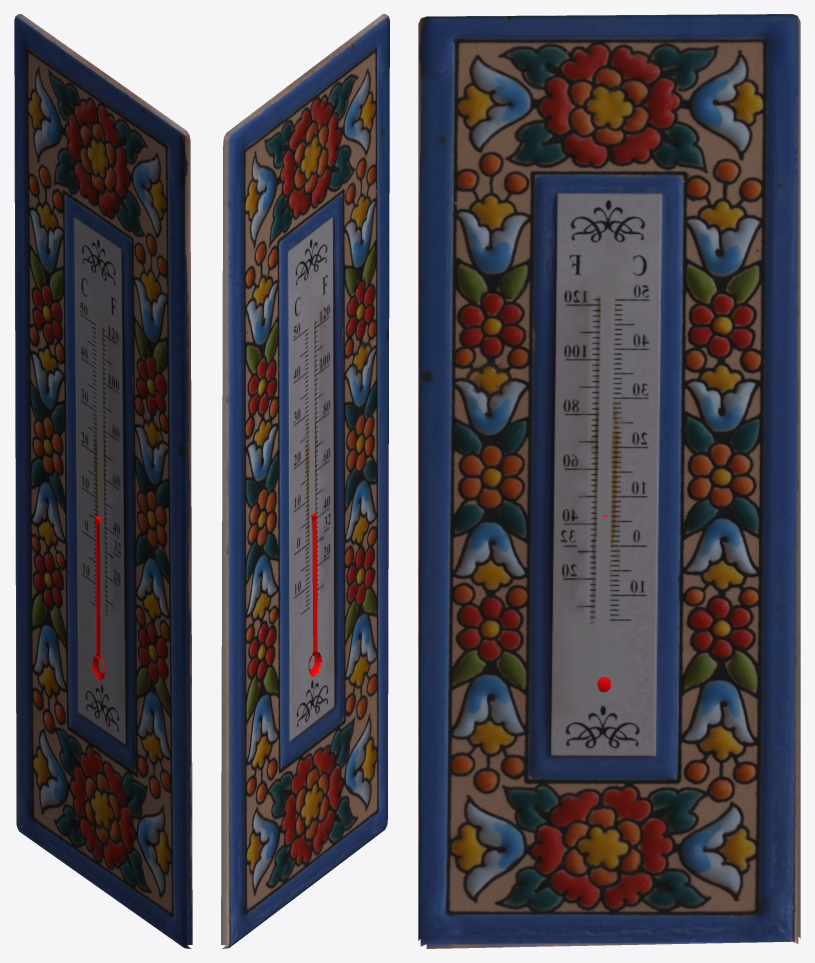
File: Thermometer.gltf
3 renders of one model, left to right at view 1: azimuth 30°, elevation 25°; view 2: azimuth 150°, elevation 25°; view 3: azimuth 270°, elevation 25°, orthographic. The views are drawn at different scales.
Visible parts, largest first — view 1: Thermometer_Grip_Scale; view 2: Thermometer_Grip_Scale; view 3: Thermometer_Grip_Scale.
Part boxes in pixels (x1=…): Thermometer_Grip_Scale: x1=14, y1=14, x2=192, y2=948; Thermometer_Grip_Scale: x1=221, y1=14, x2=389, y2=948; Thermometer_Grip_Scale: x1=418, y1=14, x2=800, y2=948.
Size of the model in its own units: 0.00359 by 0.2 by 0.0745.
1 material, 1 textured.
